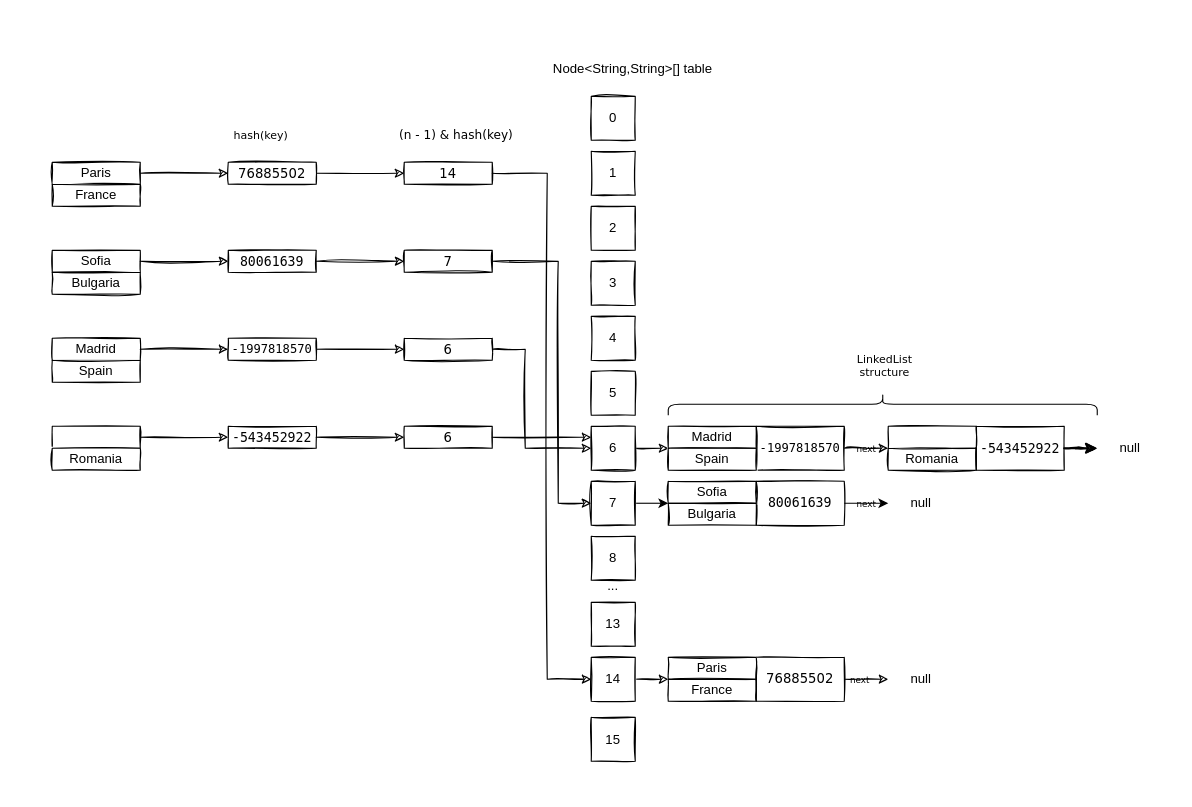
Image size: 1192x807. Some labels were removed from this diagram. Here are the shapes that lost their labels. From the top down, the centre of each, then its label:
point (95, 436): Buchares
point (931, 436): Bucharest
